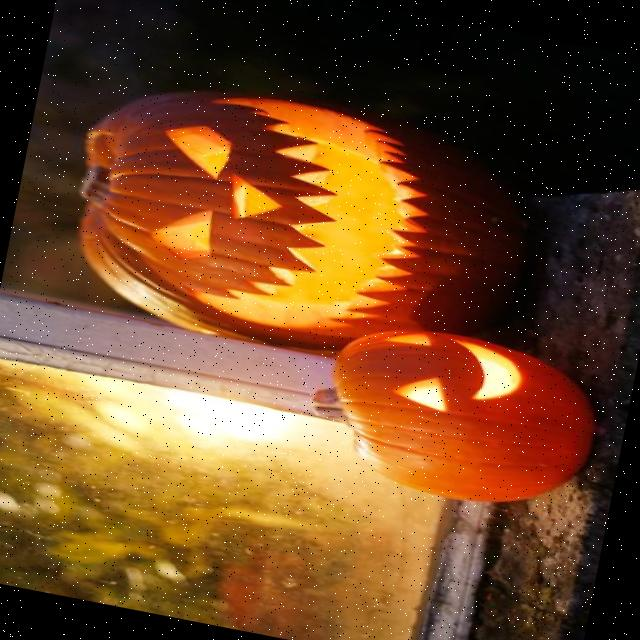pumpkin: (80, 90, 523, 353), (315, 331, 595, 501)
